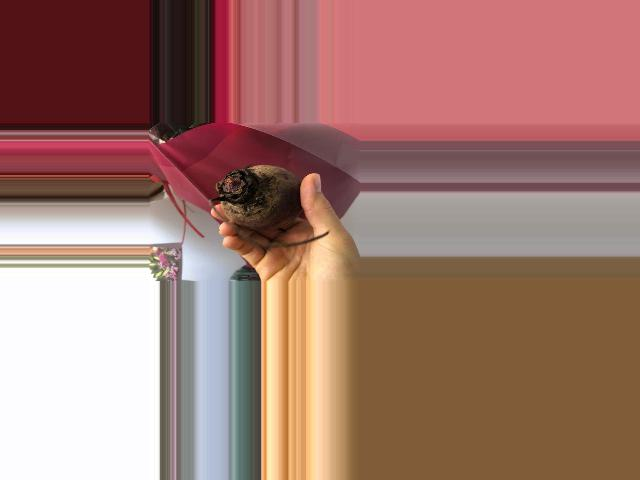beet: (207, 165, 329, 247)
